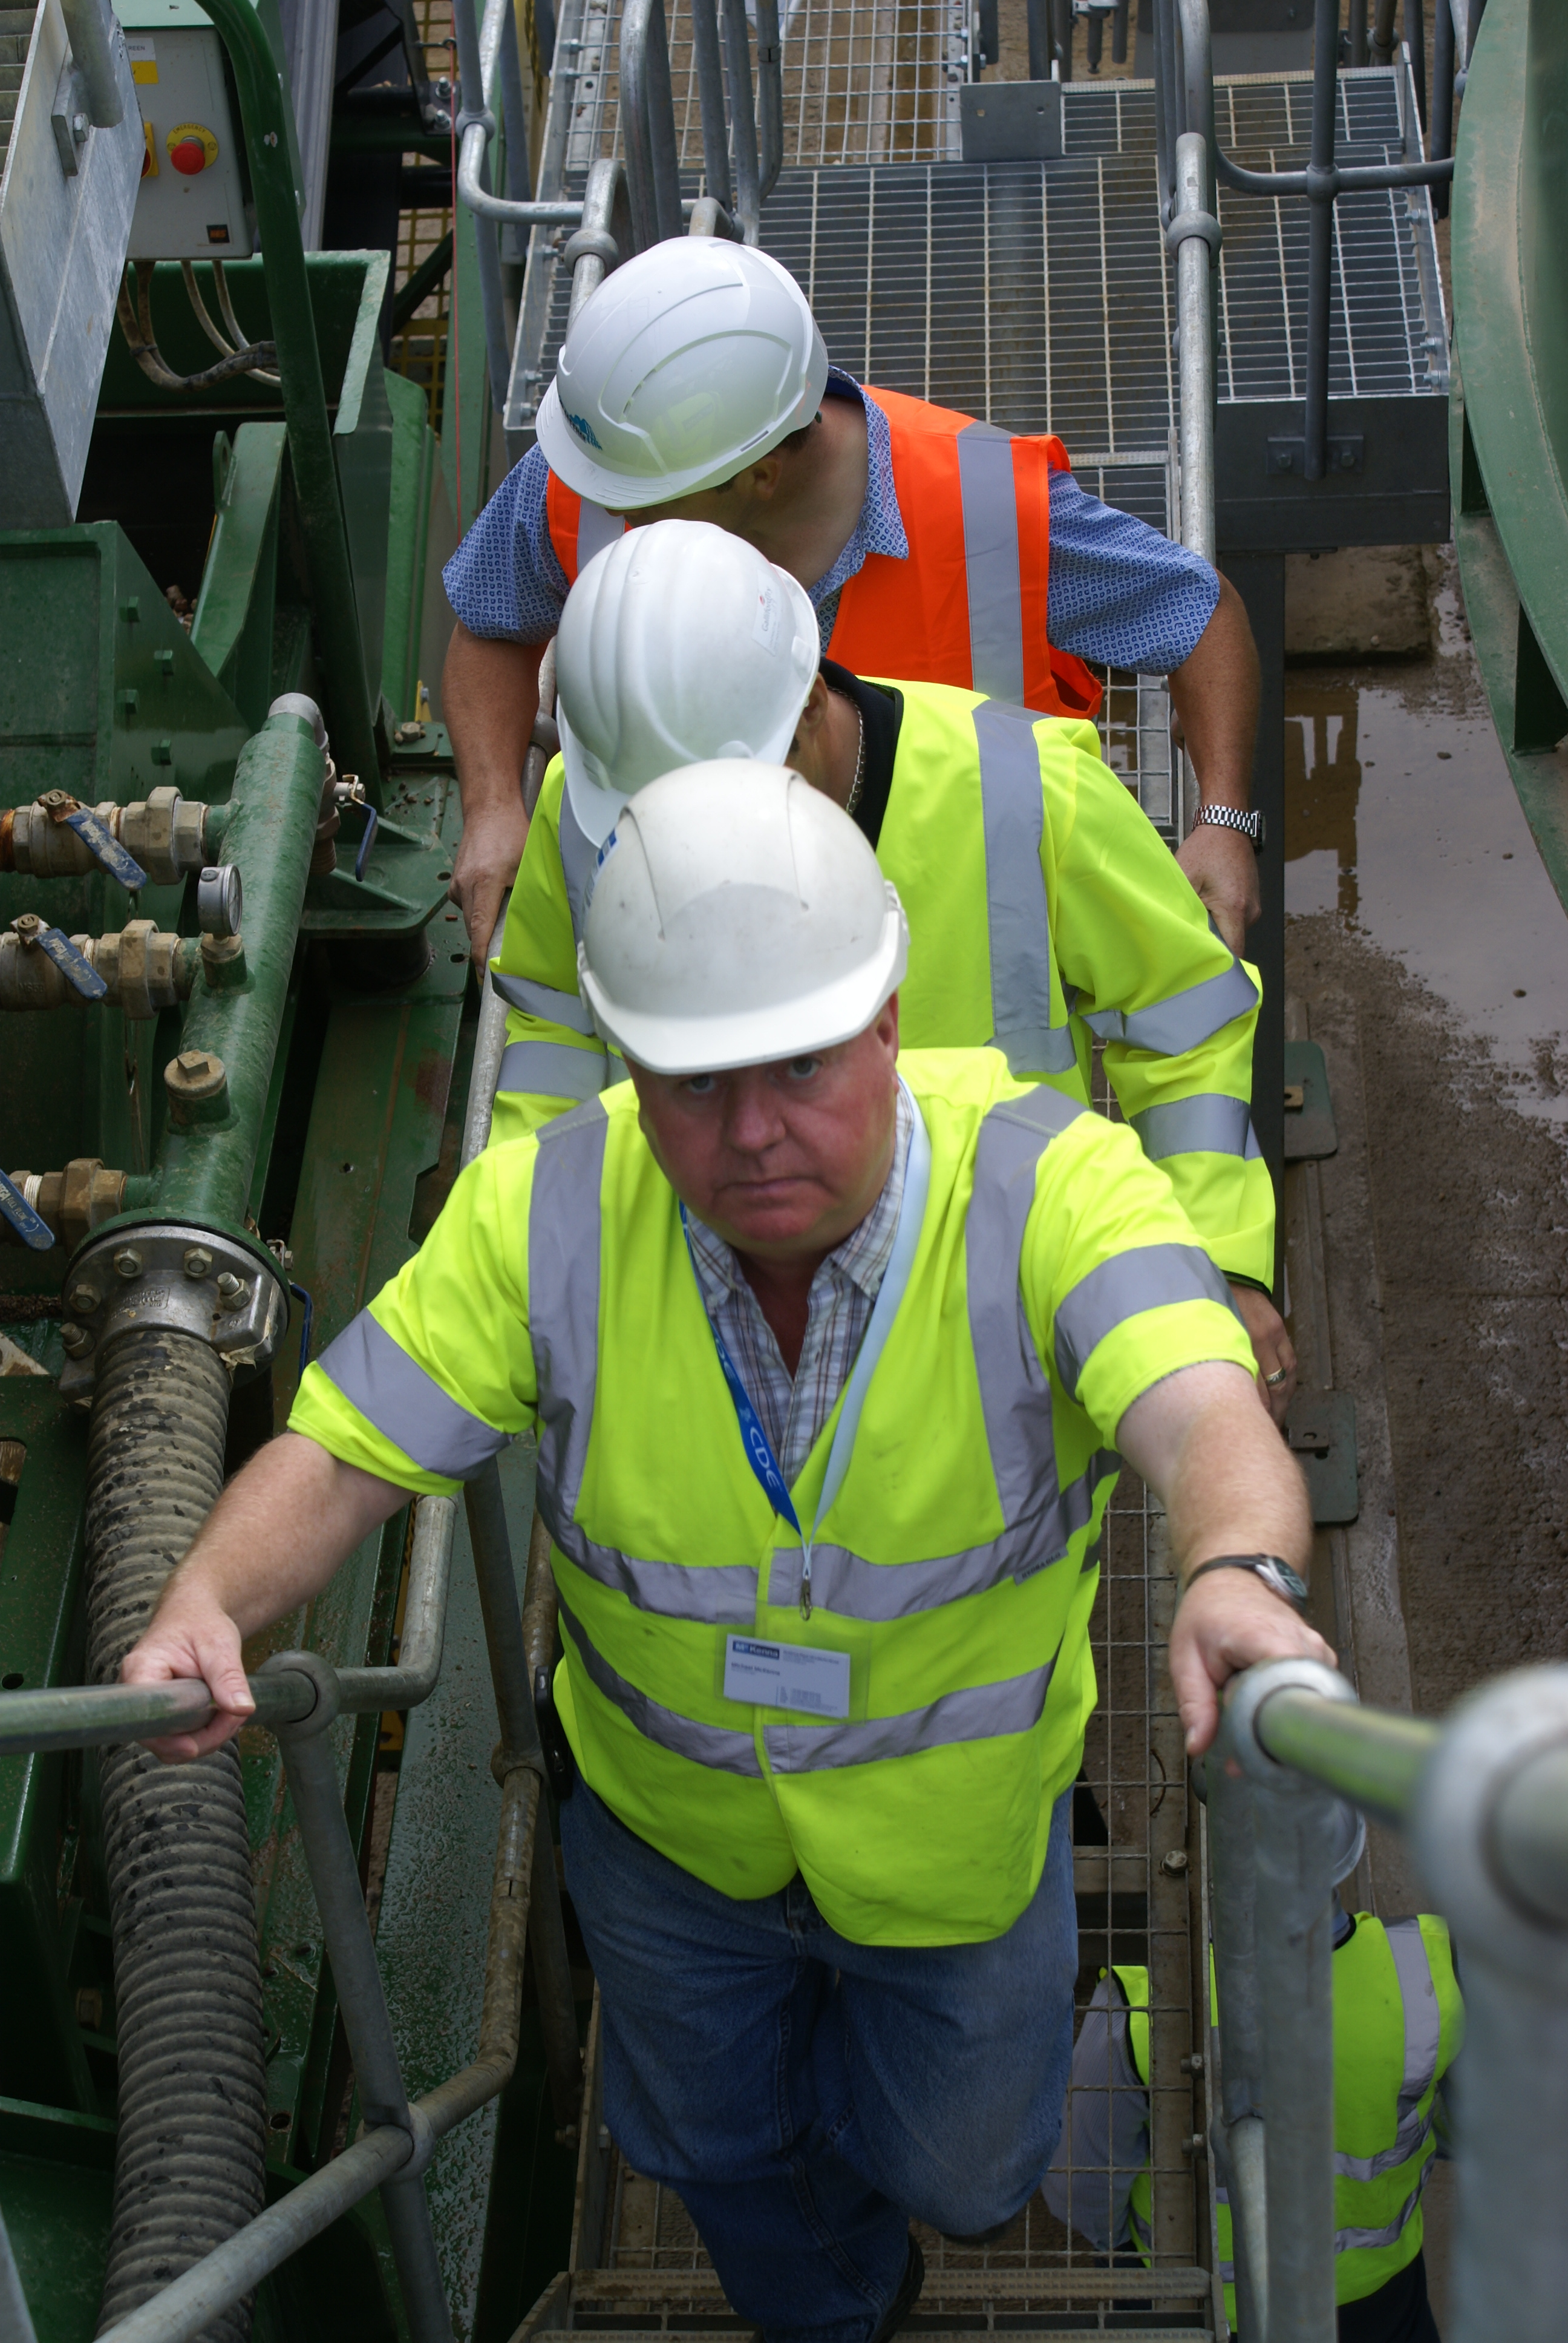helmet: (546, 775, 894, 1064), (502, 233, 845, 504), (535, 527, 822, 747)
